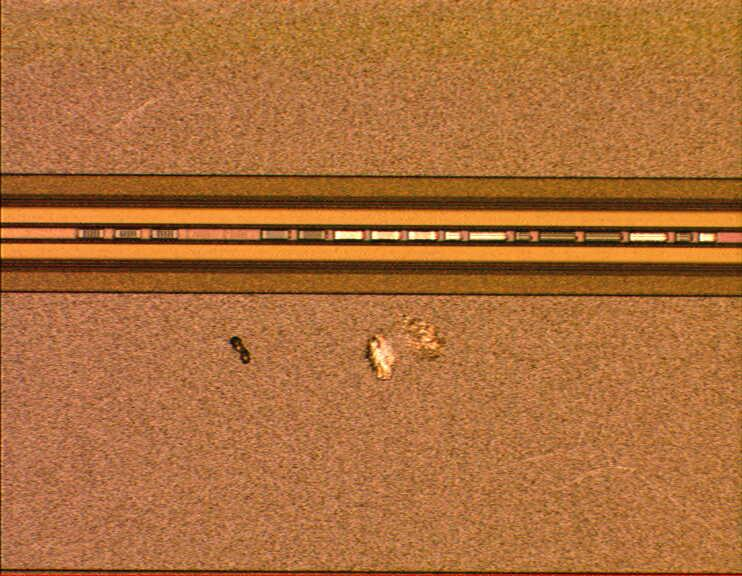SCRATCH: (217, 312, 509, 388)
